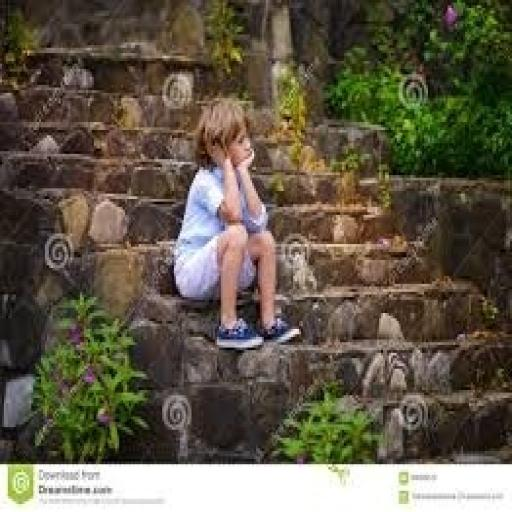sitting: (170, 95, 301, 353)
